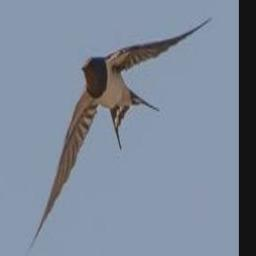Swallow: (26, 18, 213, 256)
